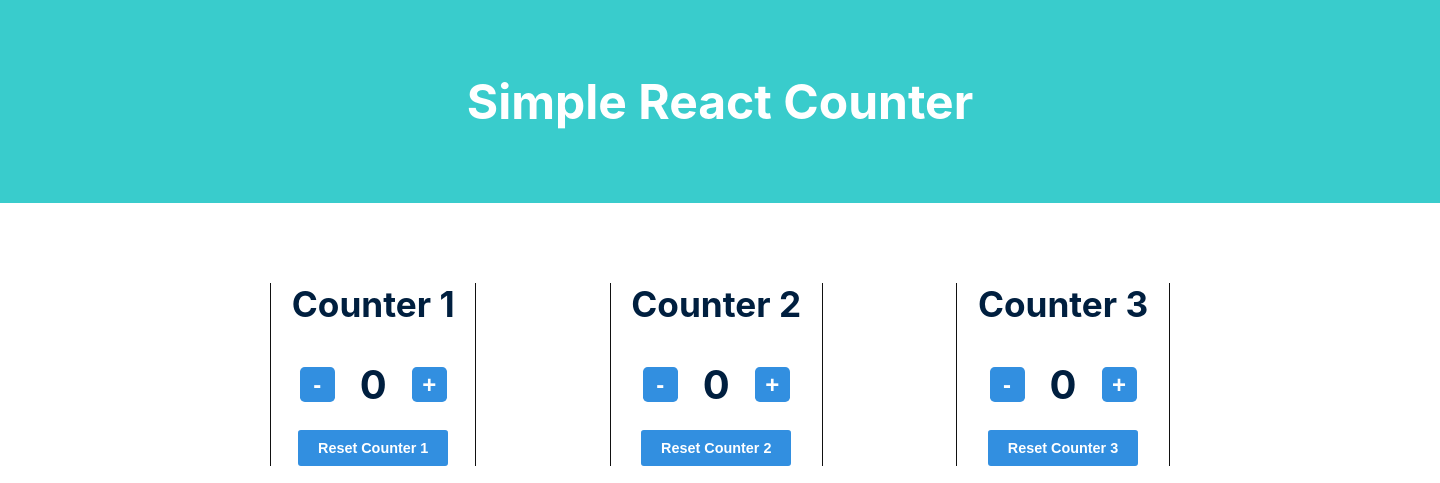
Test case: Counter 2 › resets counter
The image size is (1440, 483).
Click the button with test id "counter-two-button-up" at (772,384), box [755,367,790,402]
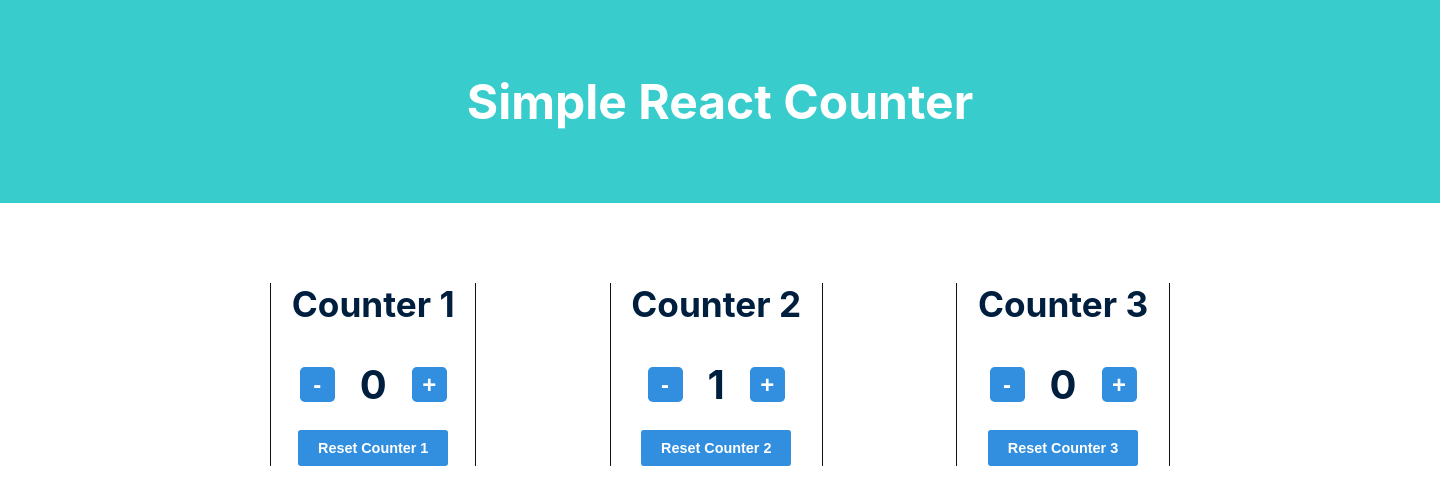
Click the button with test id "counter-two-button-up" at (767,384), box [750,367,785,402]
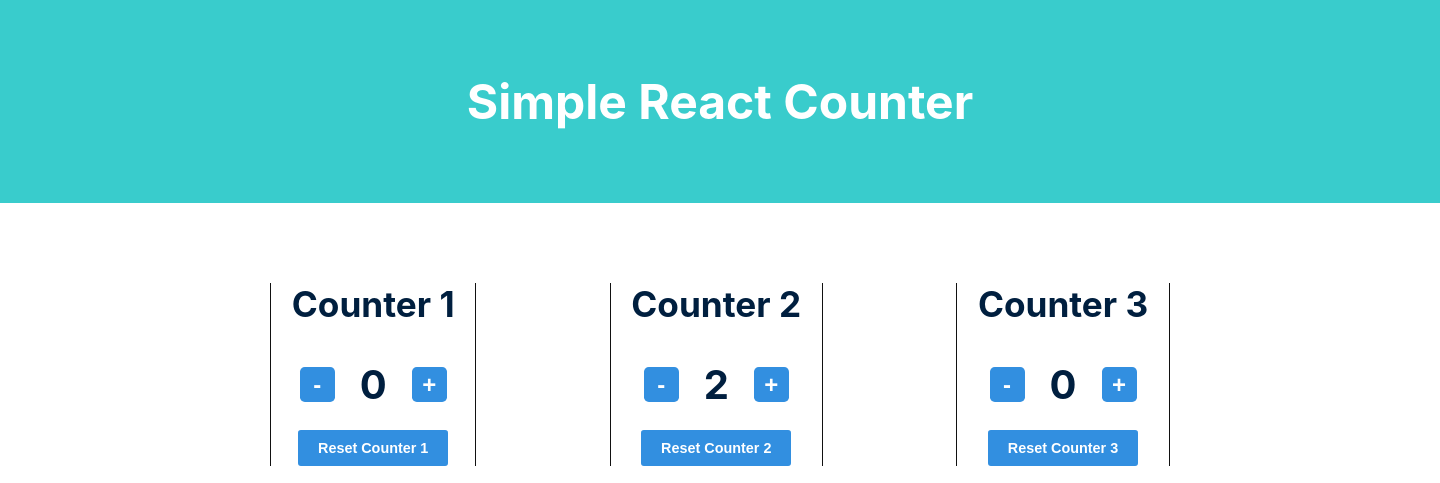
Expected: the text with test id "counter-two" reads "2", [704,360,729,409]
Click the button with test id "counter-two-reset-button" at (716,448), box [641,430,791,466]
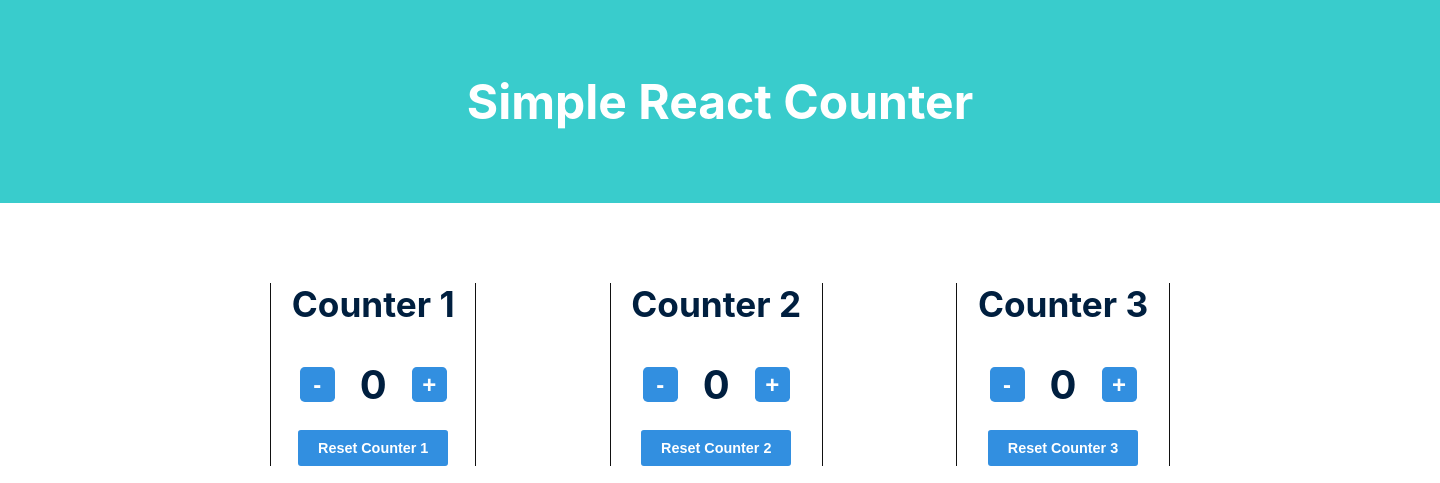
Expected: the text with test id "counter-two" reads "0", [703,360,730,409]
